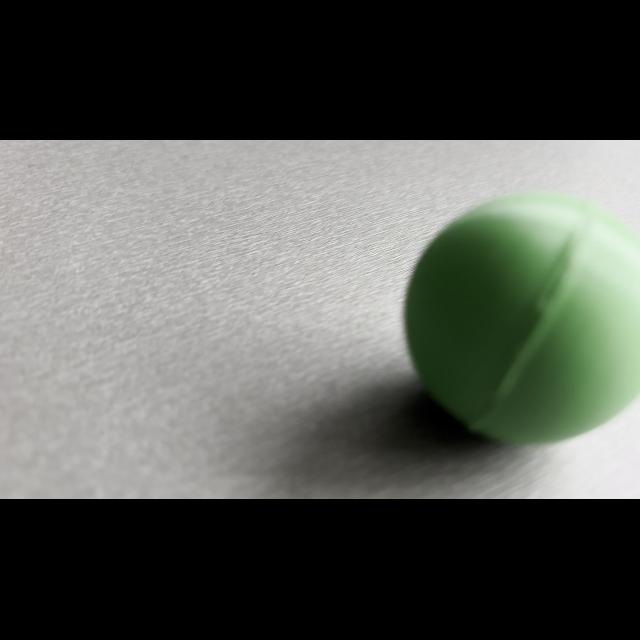objects: (396, 182, 638, 468)
